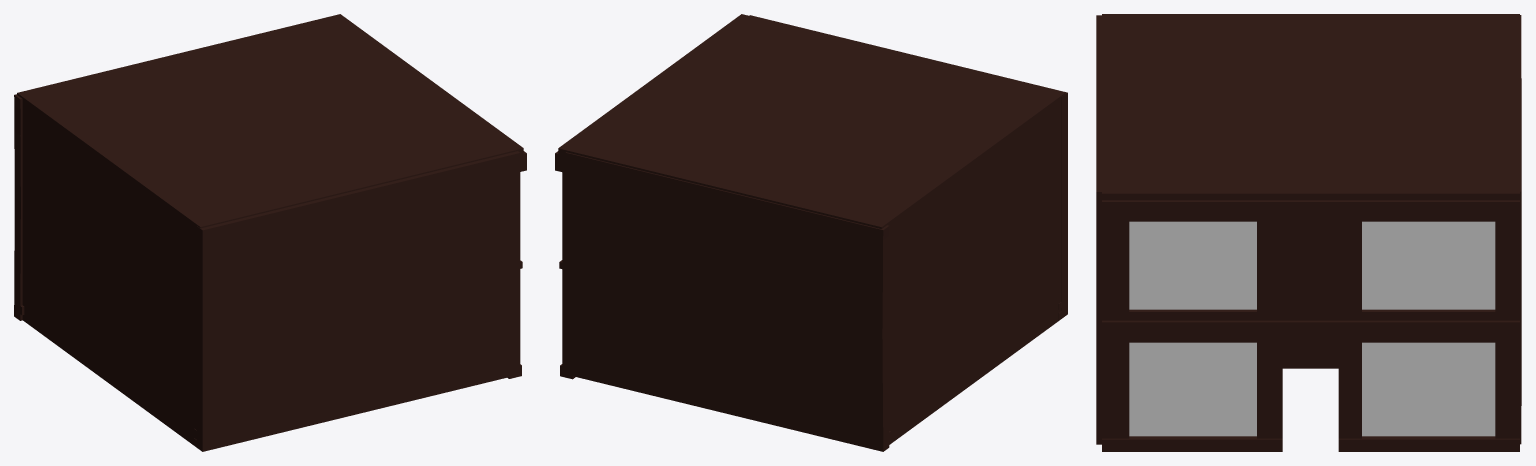
The model's file is factory.fbx.
3 renders of one model, left to right at view 1: azimuth 30°, elevation 25°; view 2: azimuth 150°, elevation 25°; view 3: azimuth 270°, elevation 25°, orthographic. The views are drawn at different scales.
Visible parts, largest first — view 1: Cube.003, Cube.004, Cube.001, Cube.002; view 2: Cube.002, Cube.004, Cube.001, Cube.003, Cube; view 3: Cube, Cube.004, Cube.003, Cube.002.
Part boxes in pixels (x1,y1,x2,y2): Cube.003: (193, 151, 520, 451); Cube.004: (17, 14, 523, 234); Cube.001: (22, 108, 196, 444); Cube.002: (14, 94, 24, 320); Cube.002: (564, 152, 890, 451); Cube.004: (558, 14, 1065, 232); Cube.001: (888, 107, 1061, 444); Cube.003: (749, 15, 1067, 320); Cube: (555, 151, 575, 379); Cube: (1102, 200, 1519, 451); Cube.004: (1102, 14, 1519, 200); Cube.003: (1096, 15, 1101, 444); Cube.002: (1520, 15, 1521, 444).
Size of the model in its own units: 6209 by 4320 by 6104.
